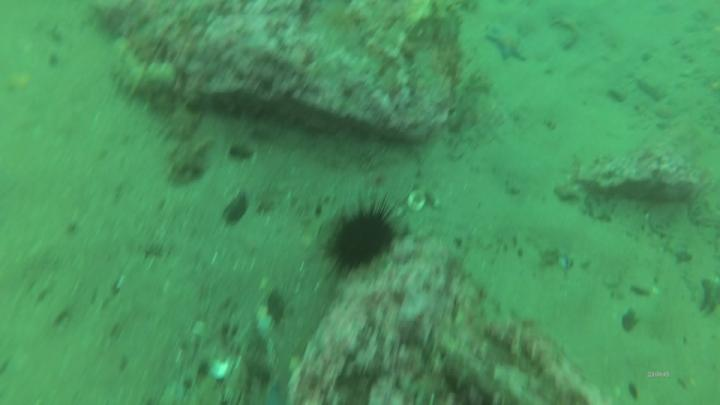echinus: (333, 214, 393, 268)
holothurian: (115, 41, 177, 99)
starfish: (487, 21, 528, 62)
